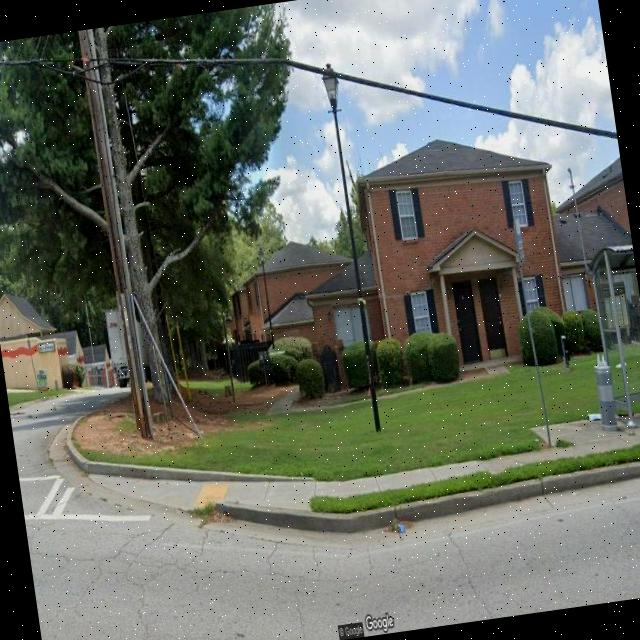shelter: (586, 242, 640, 436)
trash_can: (593, 360, 620, 432)
